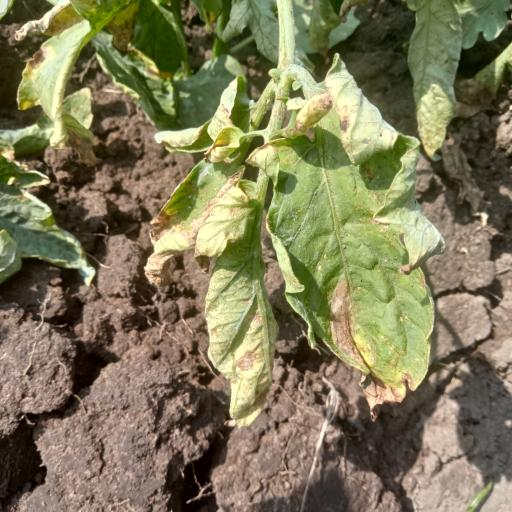Tomato_Brown_Spots: (253, 79, 450, 407), (144, 130, 296, 427)
